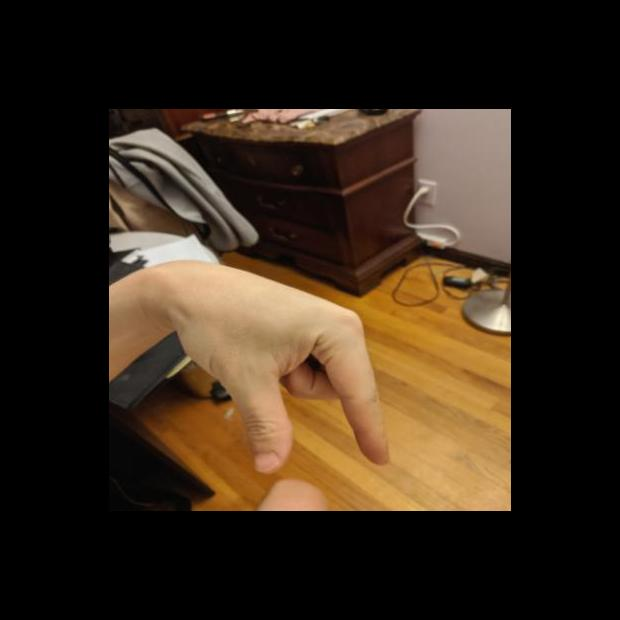P: (169, 250, 396, 479)
